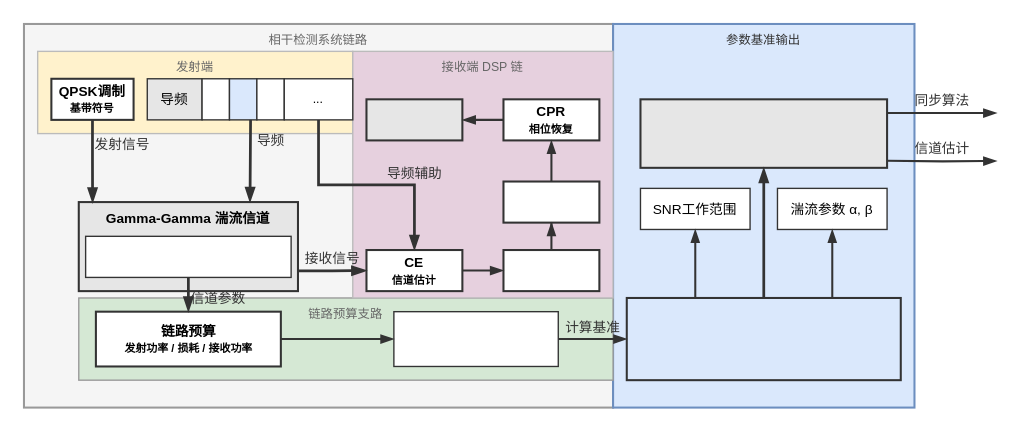
Some shapes in this 1033 by 433 pixel diagram are drawn without their labels. Each missing label, with the centre of its shape:
FOE 频偏估计: pixel 551 201
÷ĥ 信道均衡: pixel 551 270
判决: pixel 414 119
参数输出 统一仿真条件: pixel 763 133
噪声模型 相干接收: pixel 187 256
场景约束 星地距离 / 口径: pixel 475 338
统一参数基础 SNR范围 / α / β: pixel 763 338
